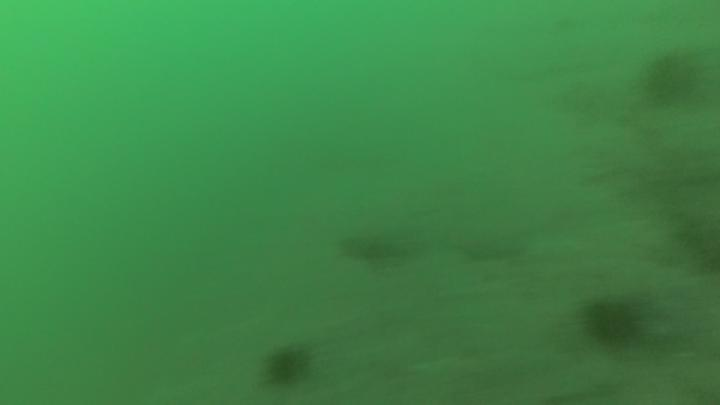echinus: (572, 292, 649, 352), (253, 337, 312, 392)
starfish: (457, 234, 531, 266)
